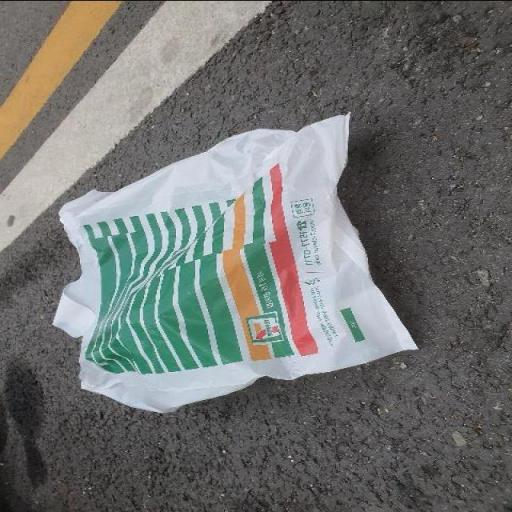plastic-bag: (48, 110, 426, 416)
